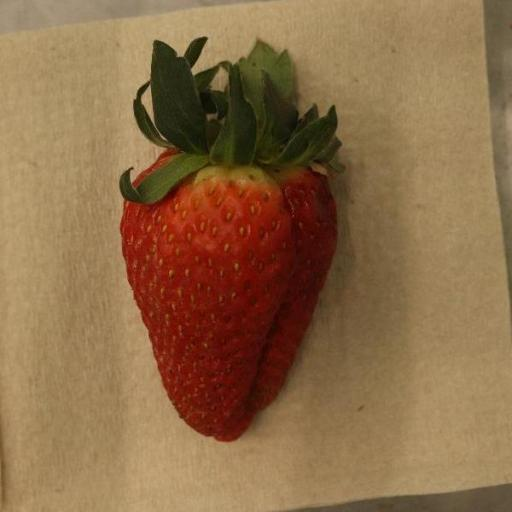Strawberry: (119, 37, 342, 445)
